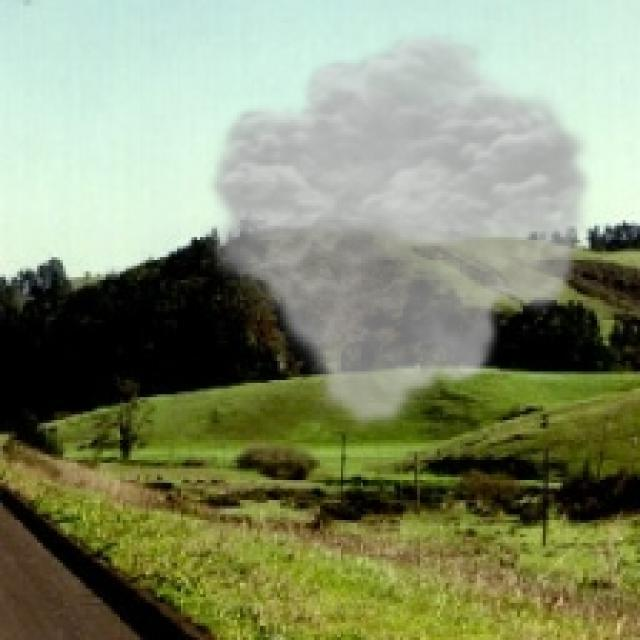Smoke: (200, 28, 600, 434)
